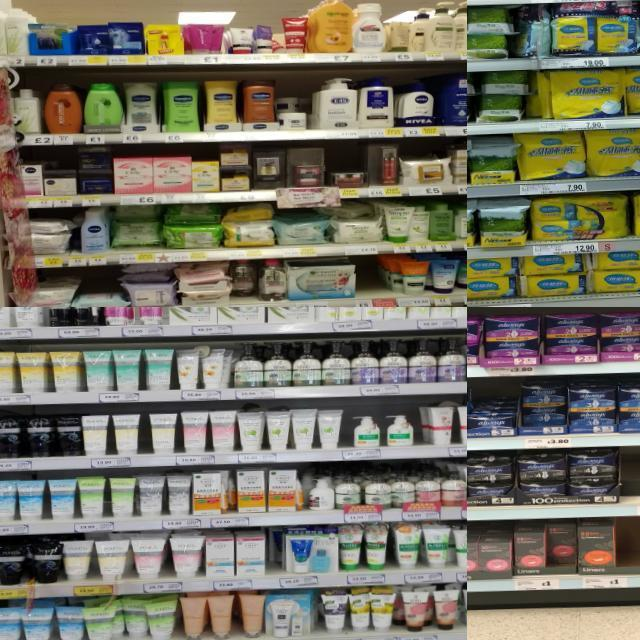empty: (355, 256, 380, 307)
